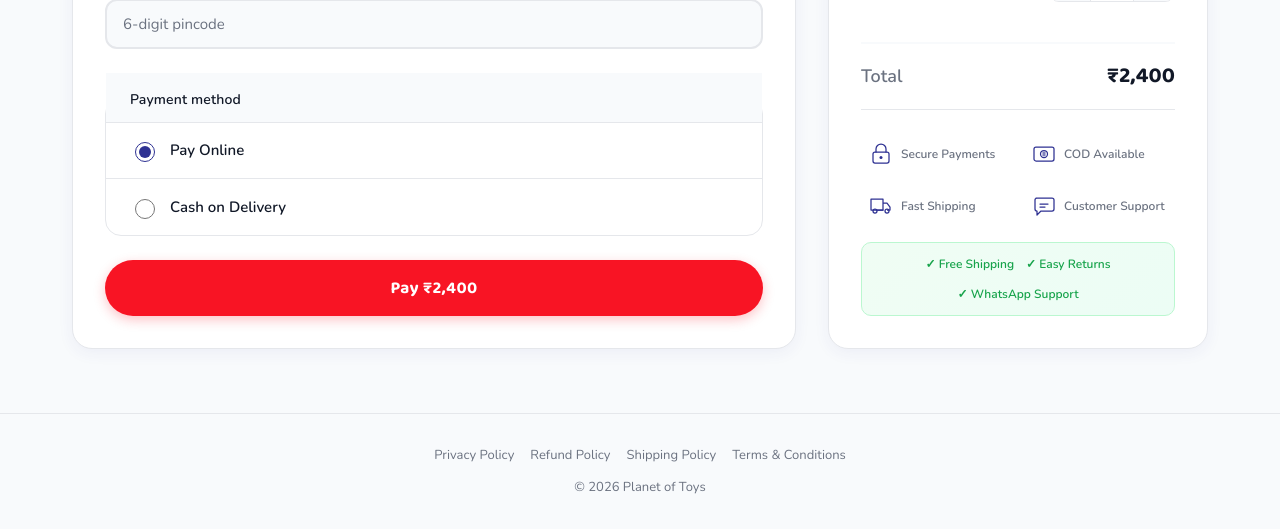
it: CheckoutPage › shows per-field validation messages and blocks submission (Req 4.5)
(page scrolled)
What coordinates should you click on to do the following:
click the button with test id "place-order"
I would click on:
 (434, 288)
Its box is [105,260,763,316].
(page scrolled)
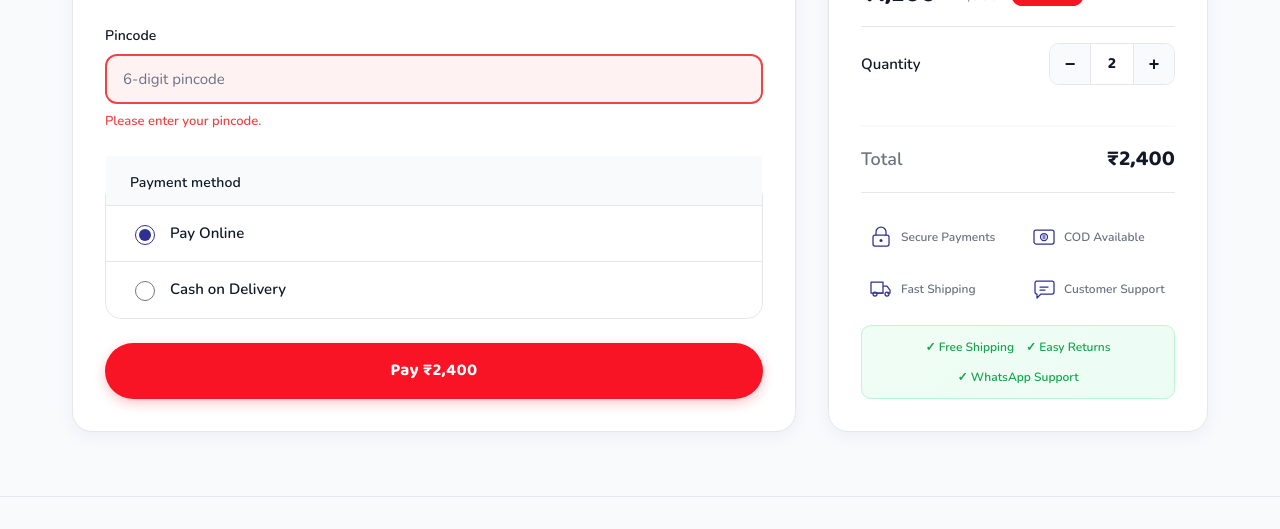
Now the message "Please enter your pincode." is shown, box [105,112,261,130]
